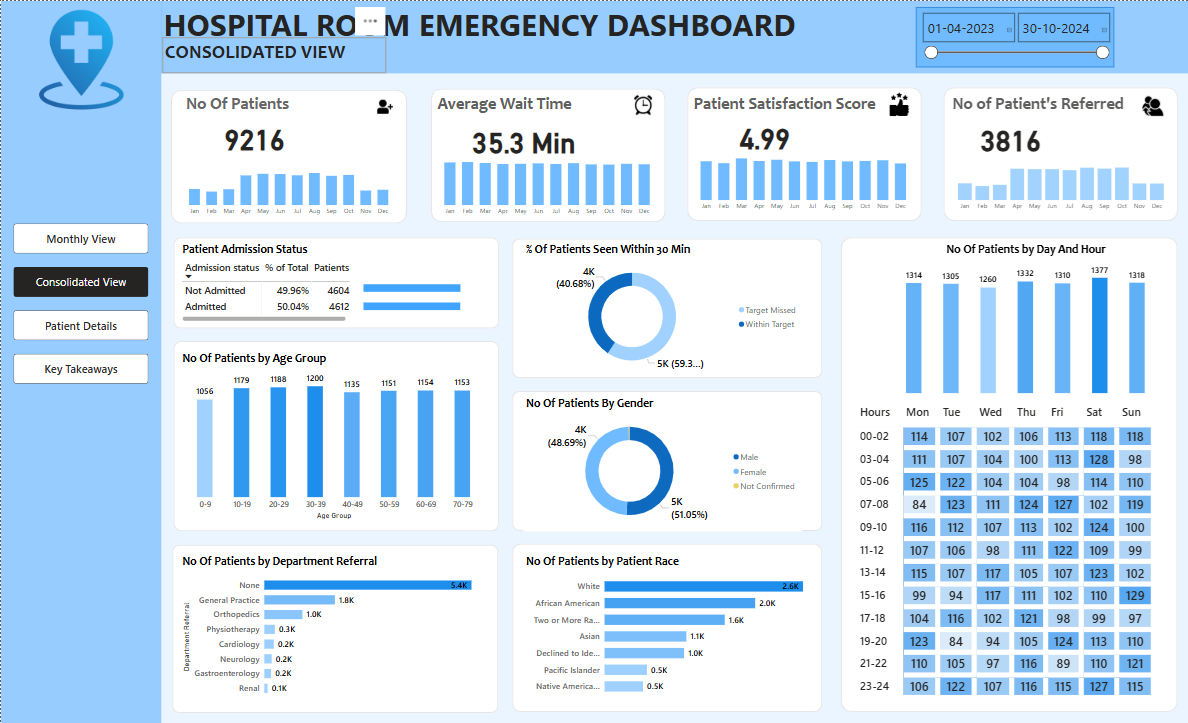

What the dashboard file says about the page in this screenshot:
{"tool":"powerbi","page":{"name":"Consolidated View","canvas":[2300,1400],"ordinal":1},"visuals":[{"type":"shape","box":[310.2,0,1989.8,140],"z":0},{"type":"textbox","box":[309.2,0,1249.7,89.4],"z":1000},{"type":"textbox","box":[311.5,71.3,433,68.6],"z":2000},{"type":"slicer","fields":{"Values":["Date Table.Date"]},"box":[1771.5,13.2,382.8,116.2],"z":3000},{"type":"shape","box":[330,171.6,456.7,258.7],"z":4000},{"type":"card","fields":{"Values":["Hospital ER_Data.No Of Patients"]},"box":[373.3,223,235.9,80.4],"z":5000},{"type":"textbox","box":[353.8,174.2,256.1,60.7],"z":6000},{"type":"columnChart","fields":{"Category":["Date Table.Month Name"],"Y":["Hospital ER_Data.No Of Patients"]},"box":[344.8,290.4,422.6,134.8],"z":7000},{"type":"shape","box":[831.4,169.2,453.8,259],"z":8000},{"type":"shape","box":[1327.2,166.7,453.8,259],"z":9000},{"type":"shape","box":[1823.1,166.7,453.8,259],"z":10000},{"type":"textbox","box":[839.5,174.2,311.5,55.4],"z":11000},{"type":"card","fields":{"Values":["Hospital ER_Data.Avg Wait Time"]},"box":[891.8,228.1,238.5,80.4],"z":12000},{"type":"columnChart","fields":{"Category":["Date Table.Month Name"],"Y":["Avg(Hospital ER_Data.Patient Waittime)"]},"box":[840,290.4,435.5,134.8],"z":13000},{"type":"textbox","box":[1335.1,173.7,386.3,57],"z":14000},{"type":"shape","box":[334,458.1,629.9,176.6],"z":15000},{"type":"card","fields":{"Values":["Hospital ER_Data.Satisfaction Score"]},"box":[1368.8,223,217.8,77.8],"z":16000},{"type":"pivotTable","title":"Patient  Admission Status","fields":{"Rows":["Hospital ER_Data.Admission status"],"Values":["Divide(Hospital ER_Data.No Of Patients, ScopedEval(Hospital ER_Data.No Of Patients, []))","Hospital ER_Data.No Of Patients"]},"box":[345.9,467.6,334,157.5],"z":17000},{"type":"columnChart","fields":{"Y":["Hospital ER_Data.Satisfaction Score"],"Category":["Date Table.Month Name"]},"box":[1335.1,280,435.5,134.8],"z":18000},{"type":"columnChart","fields":{"Y":["Hospital ER_Data.No of Patients Referred"],"Category":["Date Table.Month Name"]},"box":[1832.9,280,435.5,134.8],"z":19000},{"type":"card","fields":{"Values":["Hospital ER_Data.No of Patients Referred"]},"box":[1835.5,225.5,235.9,80.4],"z":20000},{"type":"textbox","box":[1835.9,174.4,405.1,56.4],"z":21000},{"type":"barChart","fields":{"Category":["Hospital ER_Data.Admission status"],"Y":["Hospital ER_Data.No Of Patients"]},"box":[697.4,518.5,254.1,106.3],"z":22000},{"type":"shape","box":[334.4,658.5,630,368],"z":23000},{"type":"clusteredColumnChart","fields":{"Category":["Hospital ER_Data.Age Group"],"Y":["Hospital ER_Data.No Of Patients"]},"box":[346.2,676.9,597.4,330.8],"z":24000},{"type":"shape","box":[330.8,1051.3,630.8,325.6],"z":25000},{"type":"barChart","fields":{"Category":["Hospital ER_Data.Department Referral"],"Y":["Hospital ER_Data.No Of Patients"]},"box":[346.2,1069.2,597.4,287.2],"z":26000},{"type":"shape","box":[989.7,459,600,270],"z":27000},{"type":"donutChart","title":"% Of Patients Seen Within 30 Min","fields":{"Category":["Hospital ER_Data.Waittime Status"],"Y":["Hospital ER_Data.No Of Patients"]},"box":[1011.6,467.6,541.6,260.1],"z":28000},{"type":"shape","box":[989.5,755.3,600,271.1],"z":29000},{"type":"donutChart","title":"No Of Patients By Gender","fields":{"Y":["Hospital ER_Data.No Of Patients"],"Category":["Hospital ER_Data.Patient Gender"]},"box":[1011.6,763.5,539.2,262.4],"z":30000},{"type":"shape","box":[989.5,1050,600,326.3],"z":31000},{"type":"shape","box":[1624.8,458.1,651.3,918.5],"z":32000},{"type":"barChart","fields":{"Y":["Hospital ER_Data.No Of Patients"],"Category":["Hospital ER_Data.Patient Race"]},"box":[1011.6,1068.9,575,286.3],"z":33000},{"type":"pivotTable","fields":{"Rows":["Hospital ER_Data.Waittime Interval"],"Columns":["Date Table.Day Name"],"Values":["Hospital ER_Data.No Of Patients"]},"box":[1651.4,775.1,604,585.9],"z":34000},{"type":"columnChart","title":"No Of Patients by Day And Hour","fields":{"Category":["Date Table.Day Name"],"Y":["Hospital ER_Data.No Of Patients"]},"box":[1747.3,466.6,474.4,298.1],"z":35000},{"type":"image","box":[1206.5,176.9,71.3,55.4],"z":36000},{"type":"image","box":[2201.8,171.6,55.4,63.4],"z":37000},{"type":"image","box":[1705.5,169,66,60.7],"z":38000},{"type":"image","box":[718.1,187.4,50.2,37],"z":39000},{"type":"image","box":[47.5,13.2,213.8,203.3],"z":40000},{"type":"shape","box":[0,0,310.2,1400.5],"z":41000},{"type":"pageNavigator","box":[23.3,430.3,261.8,313.7],"z":42000}]}

Visuals, with their boxes in screenshot pixels (x1, y1, x2, y2), scaled from the page's 2300x1400 canvas onto the 1188x723 screenshot:
shape: box(160, 0, 1187, 72)
textbox: box(160, 0, 805, 46)
textbox: box(161, 37, 385, 72)
slicer - Date Table.Date: box(915, 7, 1113, 67)
shape: box(170, 89, 406, 222)
card - Hospital ER_Data.No Of Patients: box(193, 115, 315, 157)
textbox: box(183, 90, 315, 121)
columnChart - Date Table.Month Name x Hospital ER_Data.No Of Patients: box(178, 150, 396, 220)
shape: box(429, 87, 664, 221)
shape: box(686, 86, 920, 220)
shape: box(942, 86, 1176, 220)
textbox: box(434, 90, 595, 119)
card - Hospital ER_Data.Avg Wait Time: box(461, 118, 584, 159)
columnChart - Date Table.Month Name x Avg(Hospital ER_Data.Patient Waittime): box(434, 150, 659, 220)
textbox: box(690, 90, 889, 119)
shape: box(173, 237, 498, 328)
card - Hospital ER_Data.Satisfaction Score: box(707, 115, 820, 155)
"Patient  Admission Status" pivotTable: box(179, 241, 351, 323)
columnChart - Hospital ER_Data.Satisfaction Score x Date Table.Month Name: box(690, 145, 915, 214)
columnChart - Hospital ER_Data.No of Patients Referred x Date Table.Month Name: box(947, 145, 1172, 214)
card - Hospital ER_Data.No of Patients Referred: box(948, 116, 1070, 158)
textbox: box(948, 90, 1158, 119)
barChart - Hospital ER_Data.Admission status x Hospital ER_Data.No Of Patients: box(360, 268, 491, 323)
shape: box(173, 340, 498, 530)
clusteredColumnChart - Hospital ER_Data.Age Group x Hospital ER_Data.No Of Patients: box(179, 350, 487, 520)
shape: box(171, 543, 497, 711)
barChart - Hospital ER_Data.Department Referral x Hospital ER_Data.No Of Patients: box(179, 552, 487, 700)
shape: box(511, 237, 821, 376)
"% Of Patients Seen Within 30 Min" donutChart: box(523, 241, 802, 376)
shape: box(511, 390, 821, 530)
"No Of Patients By Gender" donutChart: box(523, 394, 801, 530)
shape: box(511, 542, 821, 711)
shape: box(839, 237, 1176, 711)
barChart - Hospital ER_Data.No Of Patients x Hospital ER_Data.Patient Race: box(523, 552, 820, 700)
pivotTable - Hospital ER_Data.Waittime Interval x Date Table.Day Name: box(853, 400, 1165, 703)
"No Of Patients by Day And Hour" columnChart: box(903, 241, 1148, 395)
image: box(623, 91, 660, 120)
image: box(1137, 89, 1166, 121)
image: box(881, 87, 915, 119)
image: box(371, 97, 397, 116)
image: box(25, 7, 135, 112)
shape: box(0, 0, 160, 722)
pageNavigator: box(12, 222, 147, 384)
